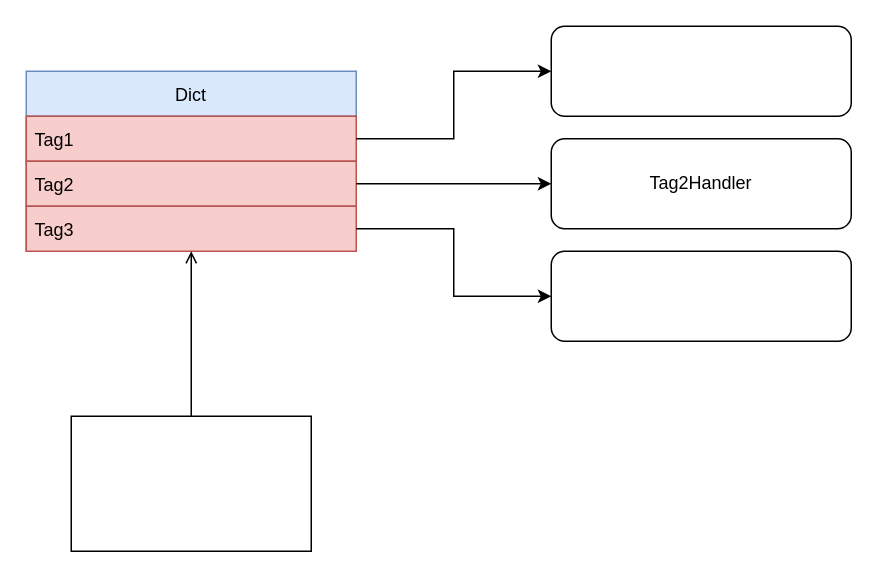
The diagram is 878 pixels wide and 578 high, and some of its shapes have lost their labels. The centre of each missing label's shape, as x and y in pixels:
"Object:Type Tag=Tag1 OtherFields 某个对象实体含有Tag" belongs at (x=190, y=483).
"Tag1Handler" belongs at (x=700, y=70).
"Tag3Handler" belongs at (x=700, y=295).
